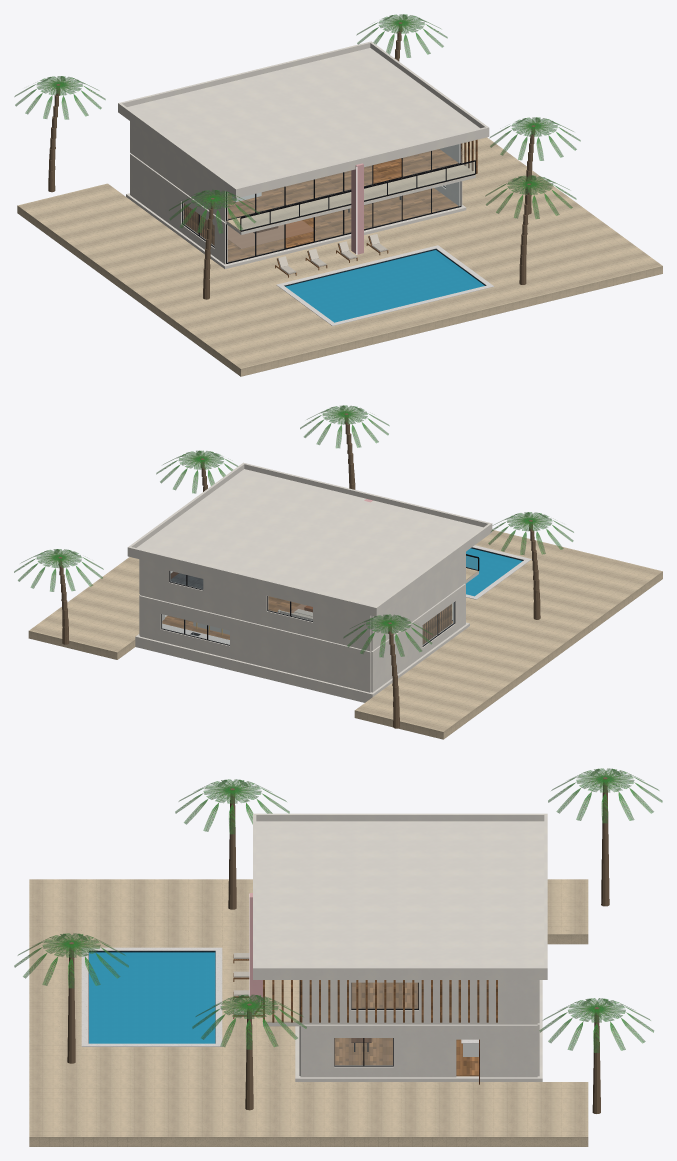
File: villa.glb
3 views of the same model, one above another, from view 1: azimuth 30°, elevation 25°; view 2: azimuth 150°, elevation 25°; view 3: azimuth 270°, elevation 25° (orthographic). The views are drawn at different scales.
Visible parts, largest first — view 1: VillaGlass, VillaShell; view 2: VillaShell, VillaGlass; view 3: VillaGlass, VillaShell.
Part boxes in pixels (x1=…): VillaGlass: x1=14, y1=14, x2=662, y2=376; VillaShell: x1=118, y1=41, x2=493, y2=325; VillaShell: x1=127, y1=462, x2=531, y2=702; VillaGlass: x1=14, y1=405, x2=662, y2=739; VillaGlass: x1=14, y1=768, x2=662, y2=1146; VillaShell: x1=81, y1=813, x2=547, y2=1084.
Bounding box in the file's own units: 36.46 × 9.12 × 38.3.
Materials: 26 (15 with a texture image).
